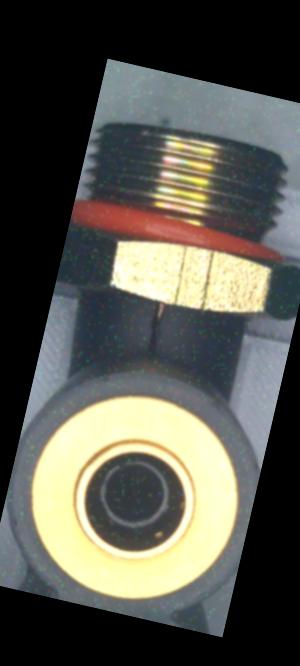craze: (137, 297, 174, 358)
